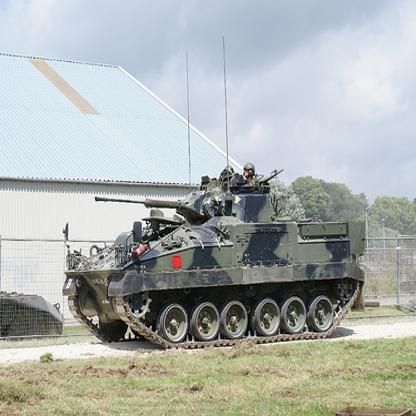Tank: (59, 163, 376, 353)
